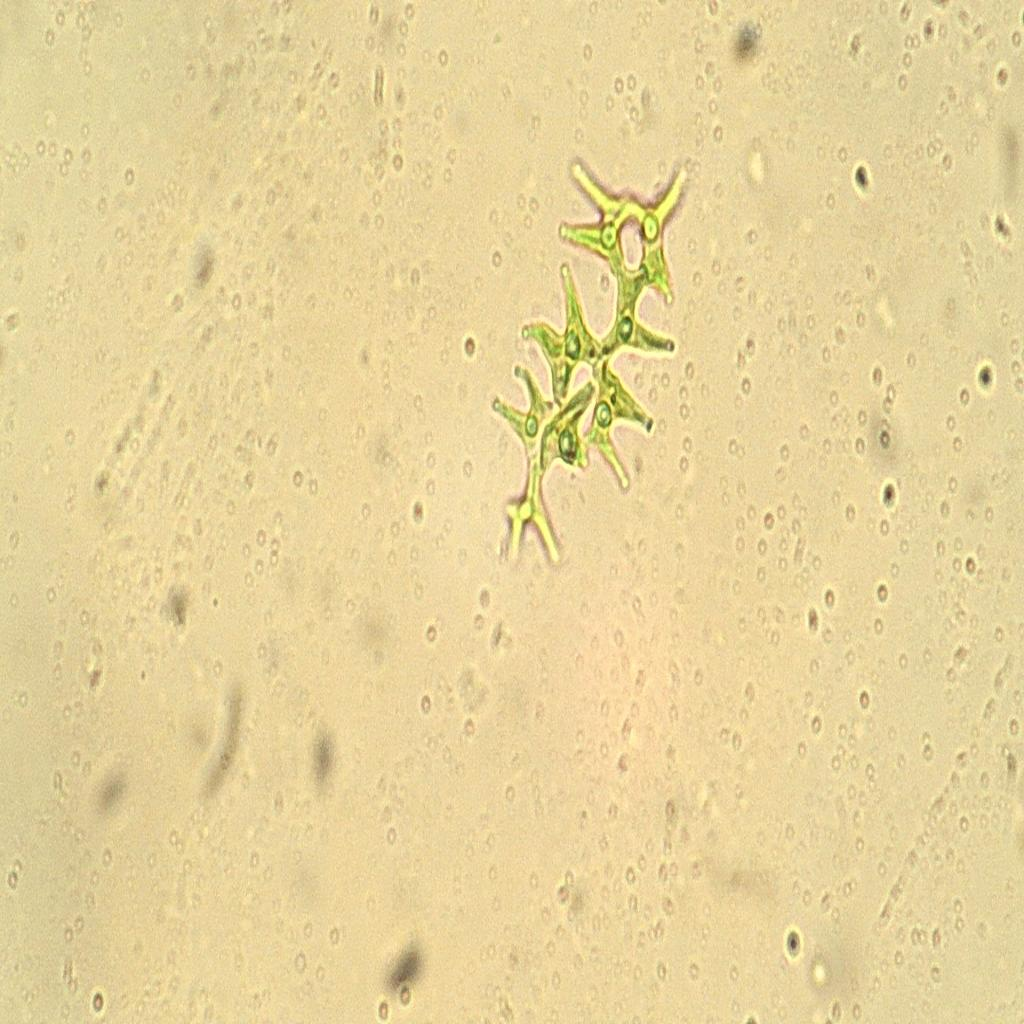Pediastrum_1TH: (477, 120, 696, 598)
